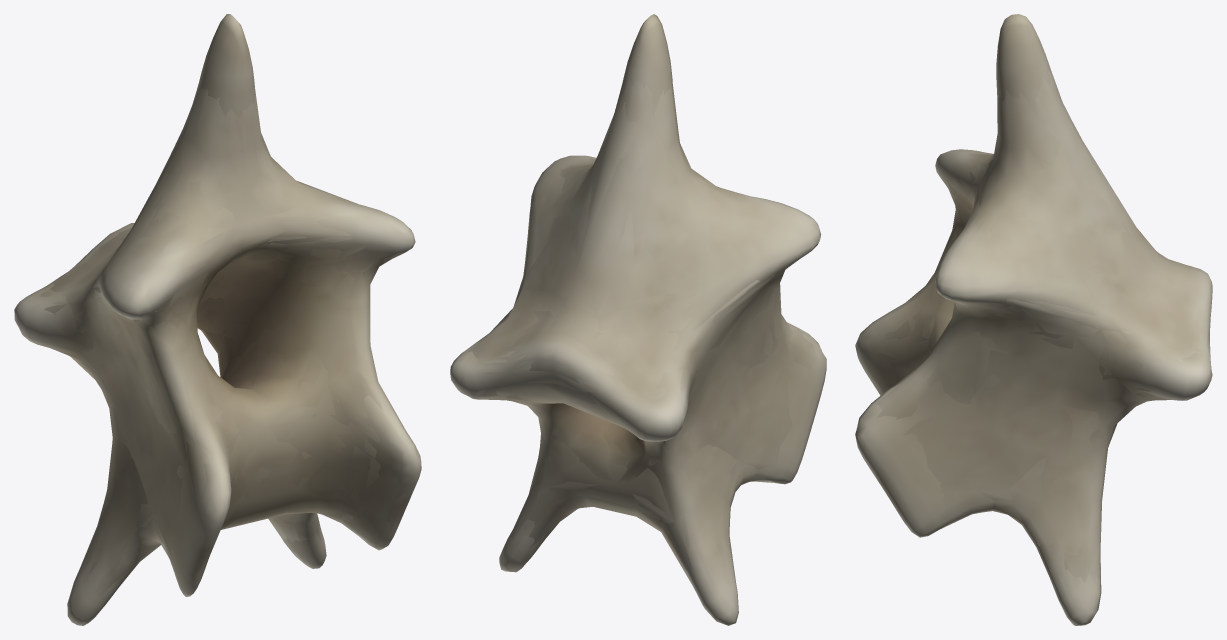
Rendered from vertebra cervicalis 4.fbx.
3 views of the same model, side by side, from view 1: azimuth 30°, elevation 25°; view 2: azimuth 150°, elevation 25°; view 3: azimuth 270°, elevation 25° (orthographic). The views are drawn at different scales.
Visible parts, largest first — view 1: vertebra cervicalis 4 low, vertebra cervicalis 4 high, vertebra cervicalis 4; view 2: vertebra cervicalis 4 high, vertebra cervicalis 4 low, vertebra cervicalis 4; view 3: vertebra cervicalis 4 low, vertebra cervicalis 4 high, vertebra cervicalis 4.
Part boxes in pixels (<box>): vertebra cervicalis 4 low: <box>44,88,403,574</box>; vertebra cervicalis 4 high: <box>14,14,421,625</box>; vertebra cervicalis 4: <box>40,83,409,596</box>; vertebra cervicalis 4 high: <box>450,14,826,625</box>; vertebra cervicalis 4 low: <box>467,87,793,583</box>; vertebra cervicalis 4: <box>477,77,817,587</box>; vertebra cervicalis 4 low: <box>877,89,1205,584</box>; vertebra cervicalis 4 high: <box>855,14,1212,625</box>; vertebra cervicalis 4: <box>871,71,1211,591</box>.
Size of the model in its own units: 1.05 by 2.07 by 1.2.
Materials: 1 (1 with a texture image).
